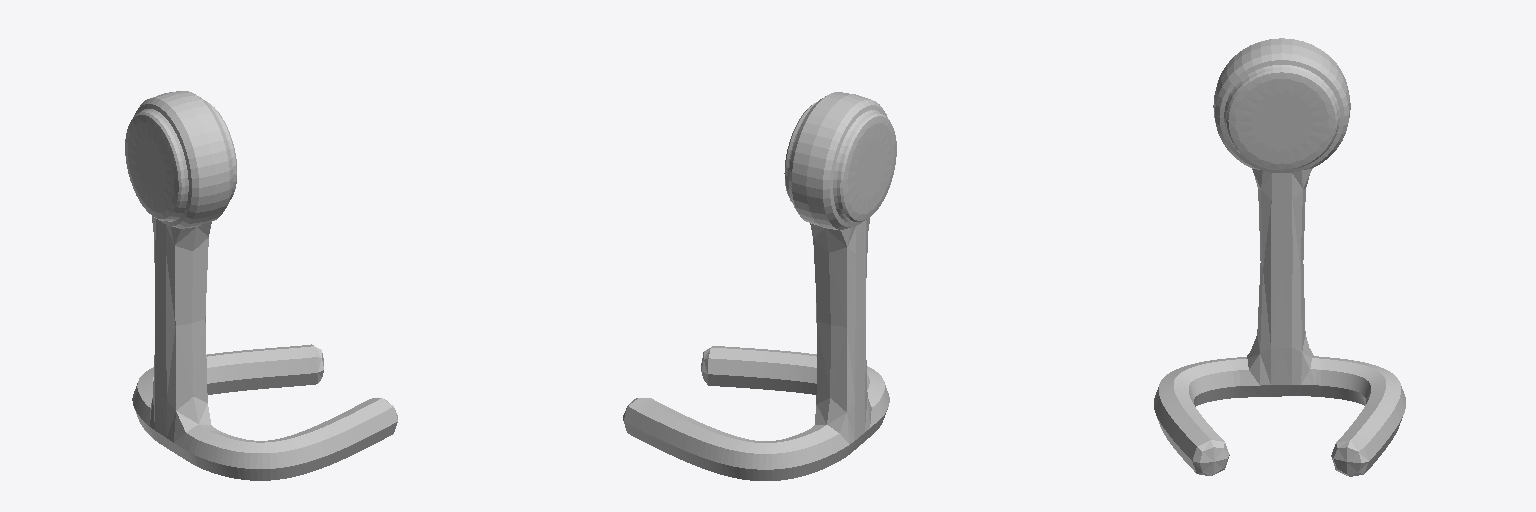
The model's file is fastener_right.obj.
3 views of the same model, side by side, from view 1: azimuth 30°, elevation 25°; view 2: azimuth 150°, elevation 25°; view 3: azimuth 270°, elevation 25° (orthographic).
Bounding box in the file's own units: 18.06 × 29.05 × 18.95.